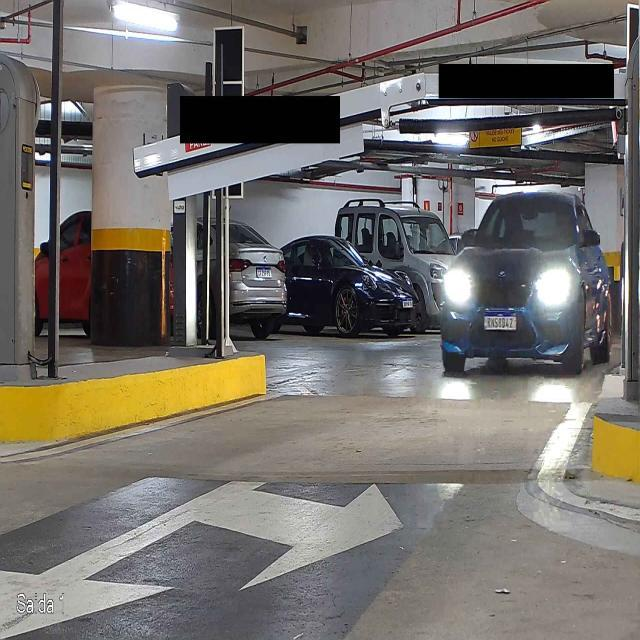mercosul_plate: (482, 310, 518, 332)
